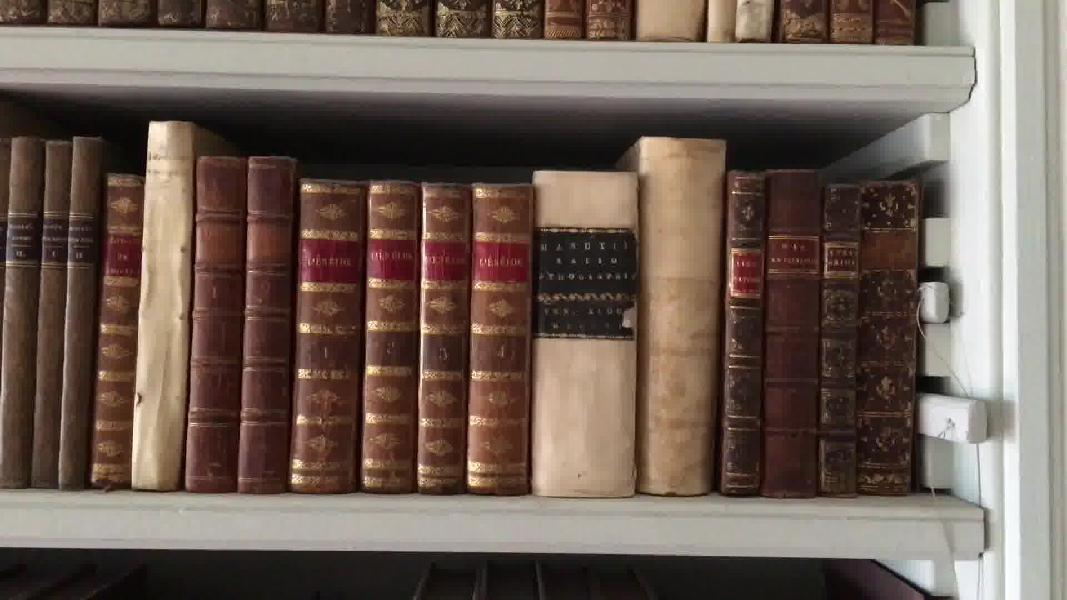Kk4-17_18: (31, 136, 104, 487)
Kk4-19: (92, 167, 140, 489)
Kk4-20: (127, 117, 195, 493)
Kk4-21_22: (181, 153, 296, 499)
Kk4-23_26: (293, 176, 534, 500)
Kk4-27: (532, 167, 640, 503)
Kk4-28: (631, 131, 724, 507)
Kk4-29: (720, 163, 765, 500)
Kk4-30: (767, 167, 823, 507)
Kk4-31: (819, 178, 864, 502)
Kk4-32: (859, 175, 919, 499)
